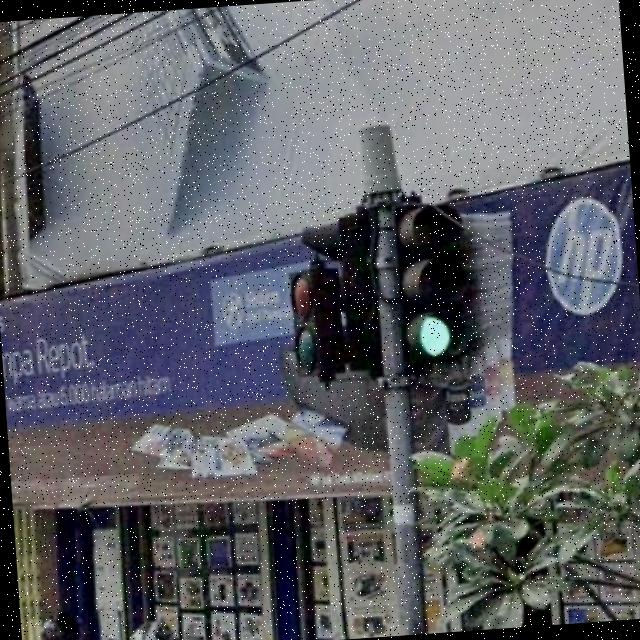Zielone swiatlo: (394, 204, 466, 364)
